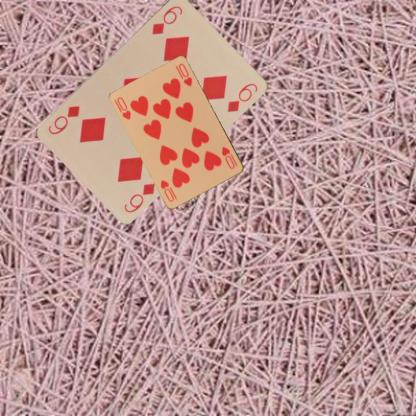10h: (219, 144, 239, 170), (115, 95, 132, 122)
6d: (121, 180, 156, 214), (149, 3, 184, 36)
